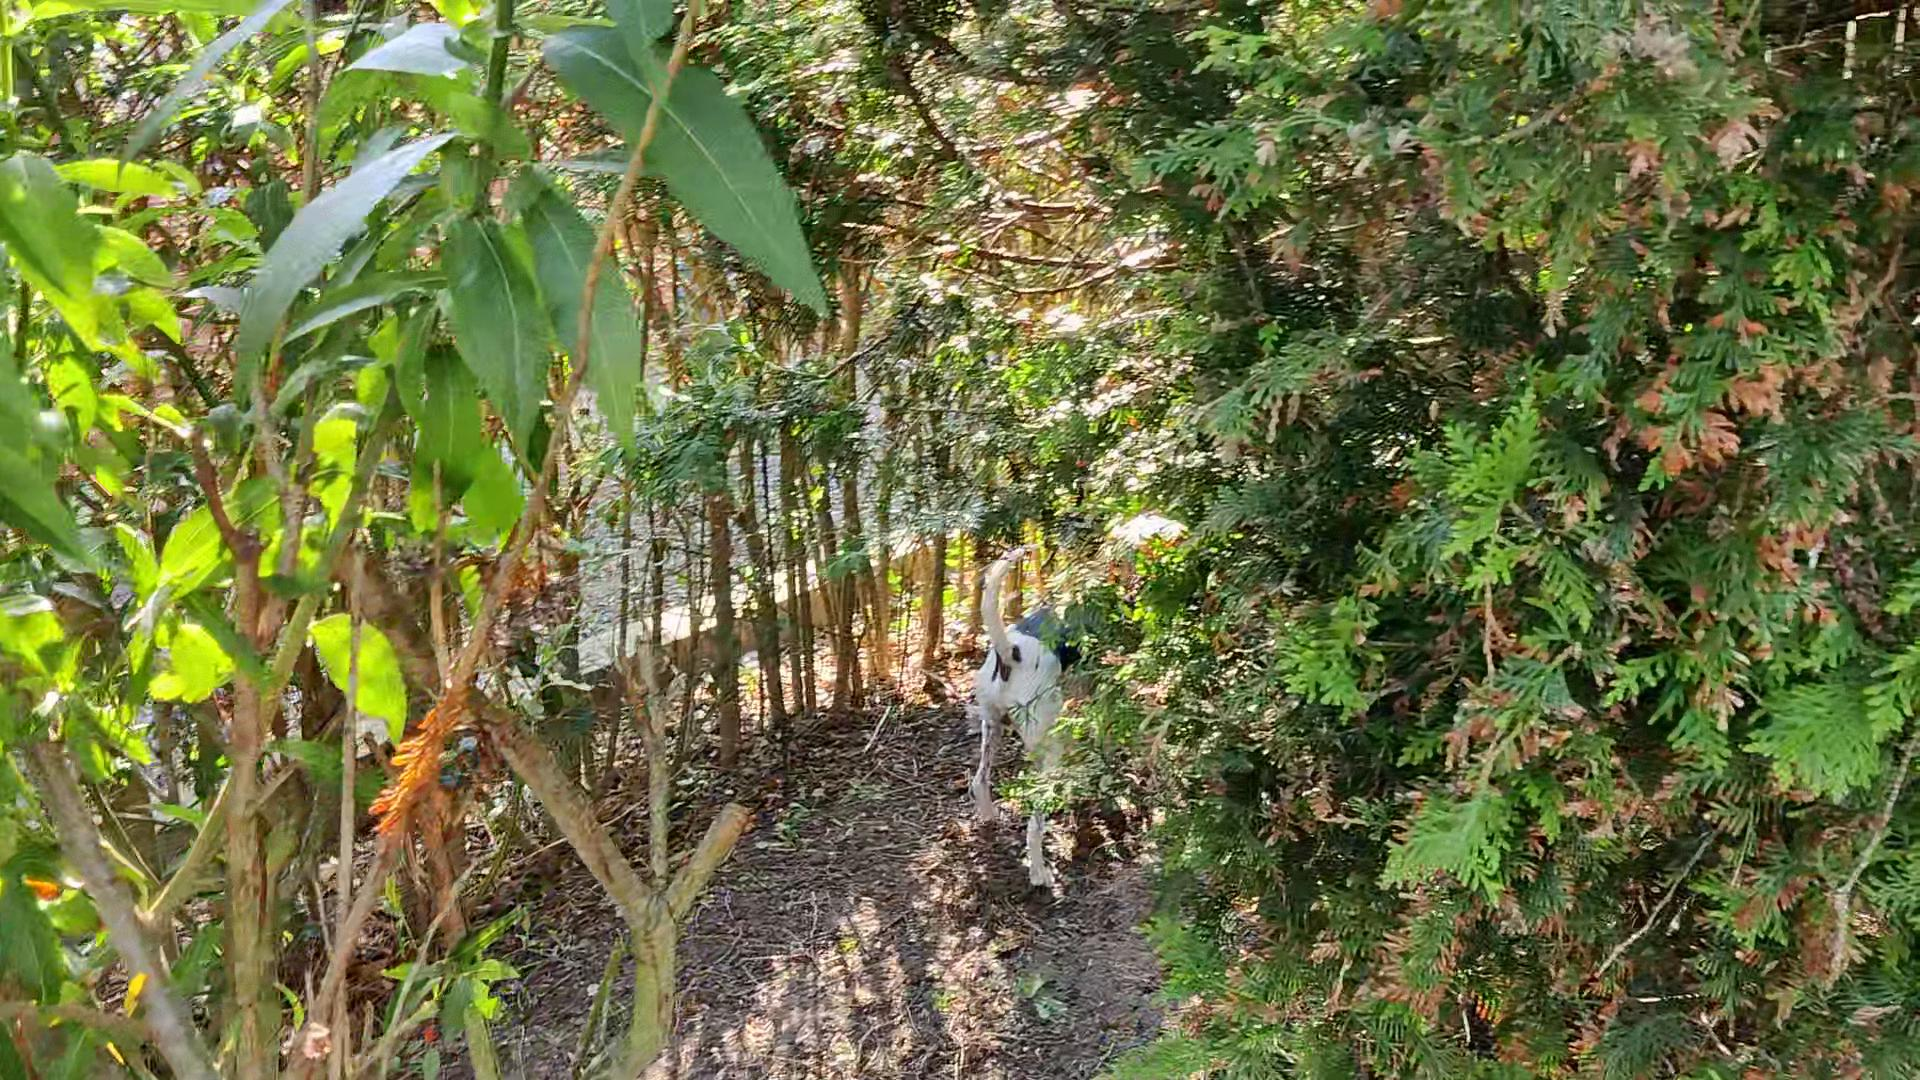Dog: (947, 537, 1124, 895)
